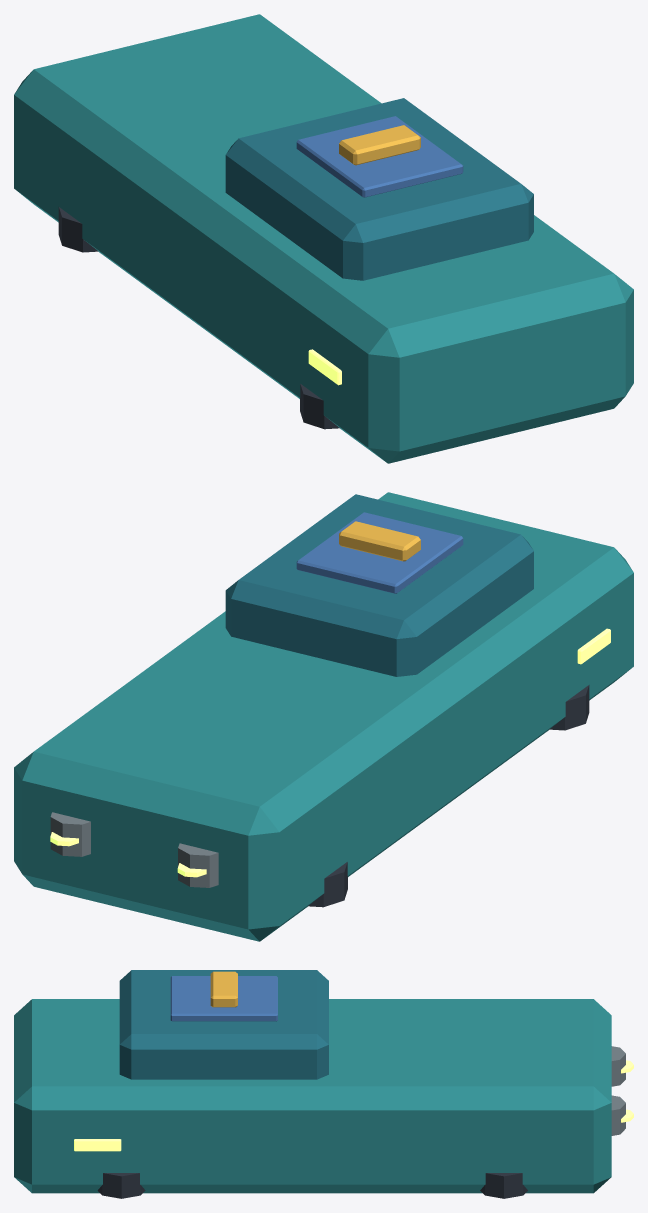
File: vehicles_027_seed11.glb
3 views of the same model, one above another, from view 1: azimuth 30°, elevation 25°; view 2: azimuth 150°, elevation 25°; view 3: azimuth 270°, elevation 25° (orthographic). The views are drawn at different scales.
Visible parts, largest first — view 1: vehicles_027_seed11; view 2: vehicles_027_seed11; view 3: vehicles_027_seed11.
Boxes of the visible parts, x1,y1,x2,y2 form: vehicles_027_seed11: (14,14,633,463); vehicles_027_seed11: (14,492,633,941); vehicles_027_seed11: (14,970,633,1198).
Bounding box in the file's own units: 2.29 × 1.62 × 5.49.
